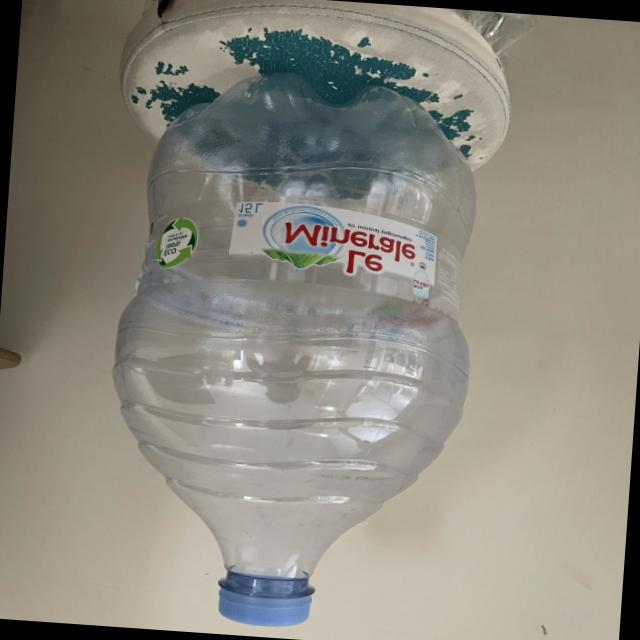Galon: (57, 58, 514, 640)
